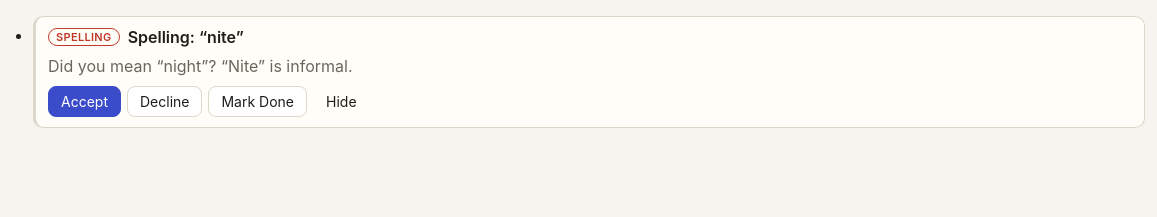
Scenario: SuggestionCard › Accept on a vanished passage explains and stays open
Click the button "Accept".
click(84, 101)  # box x1=48 y1=86 x2=121 y2=117
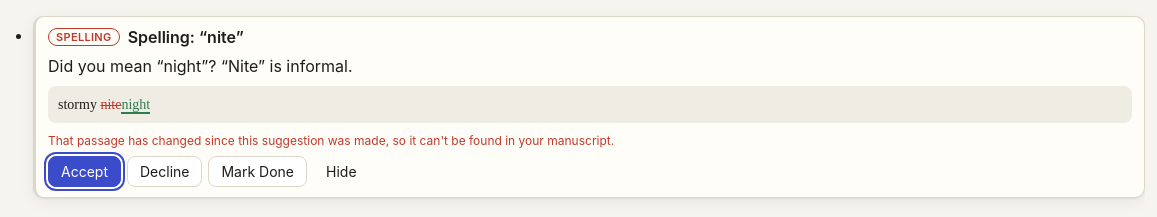
Check: the message shows "has changed", box x1=48 y1=133 x2=614 y2=148
